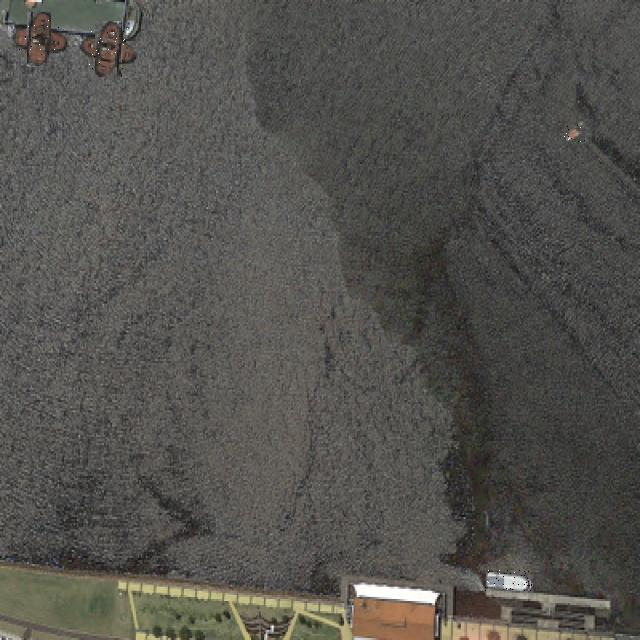boat: (87, 28, 129, 70), (19, 19, 59, 59), (485, 570, 533, 591), (564, 121, 586, 142)
